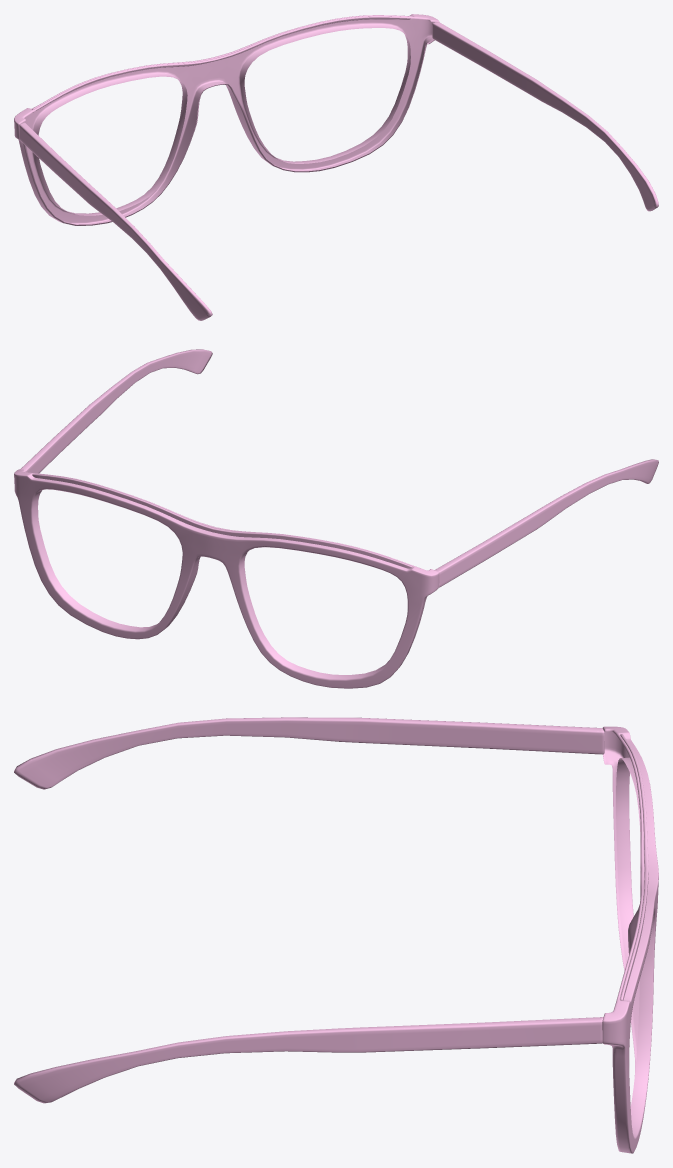
The model's file is sunglass_lavender_rose.fbx.
The picture shows the model from 3 angles, top to bottom: view 1: azimuth 30°, elevation 25°; view 2: azimuth 150°, elevation 25°; view 3: azimuth 270°, elevation 25°; orthographic projection. The views are drawn at different scales.
Parts seen in each view (by area): view 1: am_body.001; view 2: am_body.001; view 3: am_body.001.
Part boxes in pixels (x1,y1,x2,y2): am_body.001: (14,14,658,320); am_body.001: (14,349,658,688); am_body.001: (14,717,658,1153).
Size of the model in its own units: 16.26 by 4.9 by 13.72.
